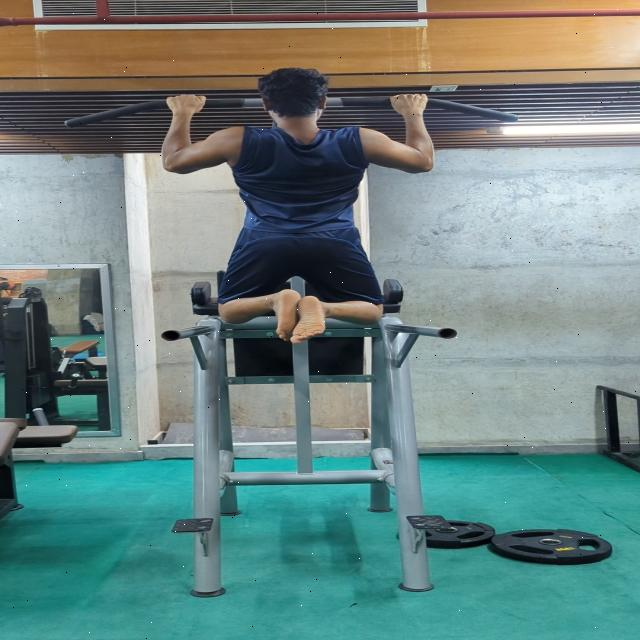Normal_PullUps: (155, 60, 449, 347)
